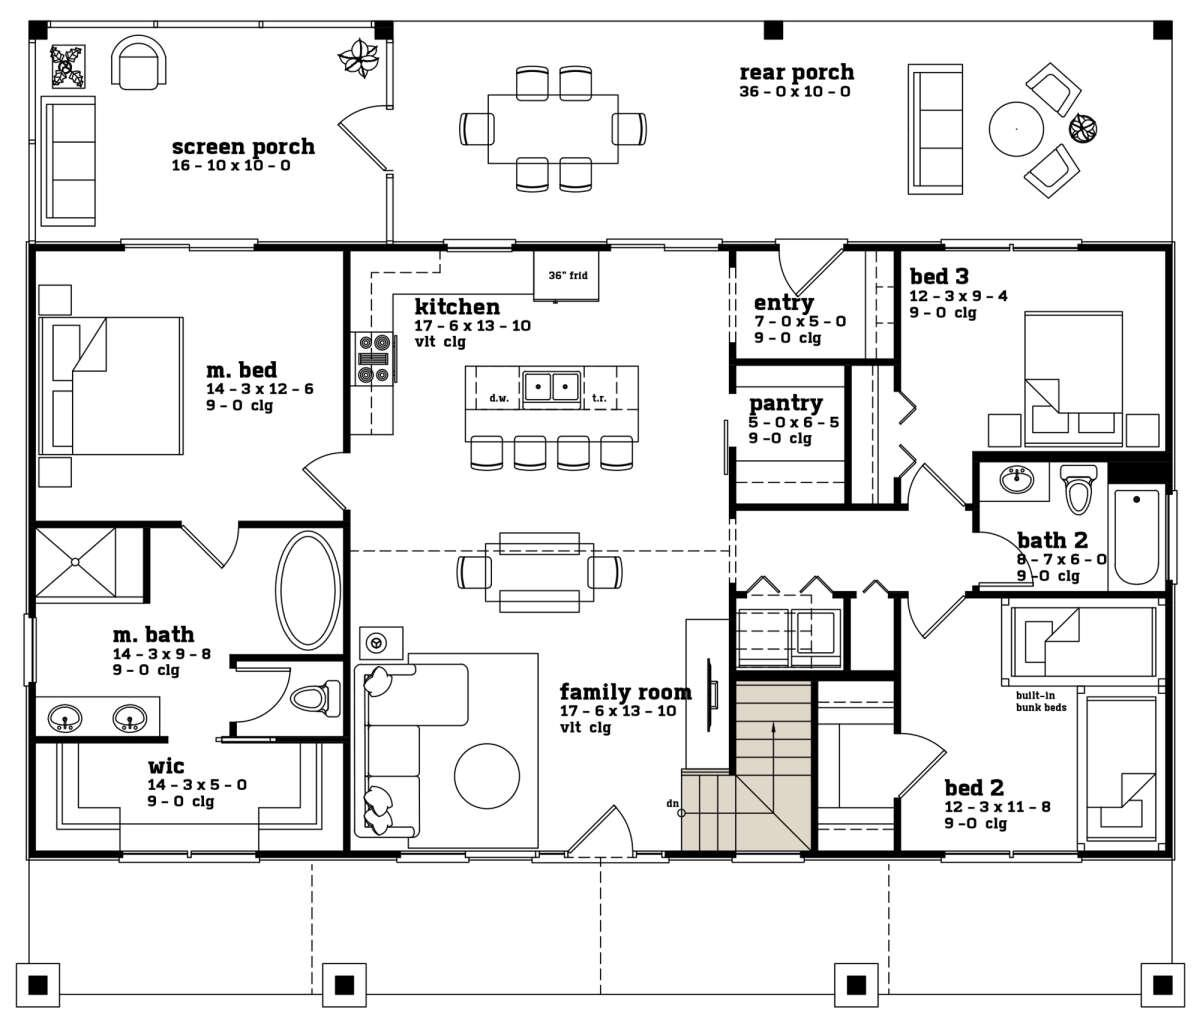room: (347, 247, 732, 852), (32, 525, 346, 853), (31, 245, 346, 523), (32, 25, 390, 243), (898, 594, 1170, 855), (898, 245, 1172, 450), (732, 506, 897, 675), (977, 456, 1169, 594), (731, 362, 898, 506), (731, 246, 897, 361)
